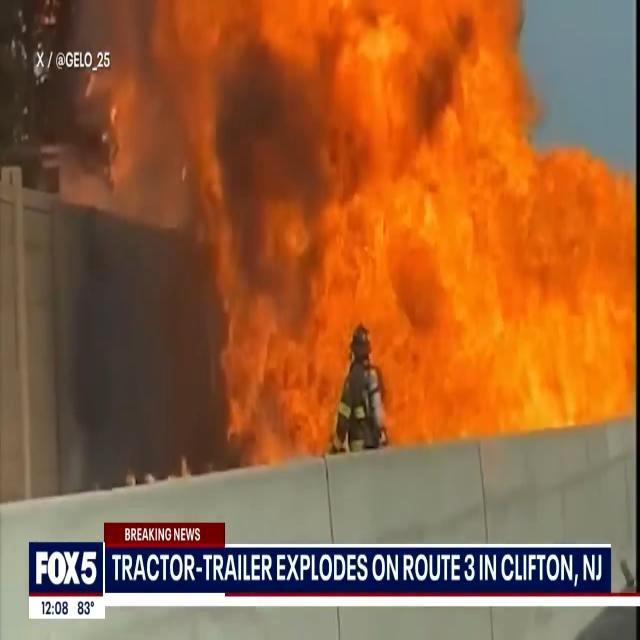fire: (194, 2, 638, 318), (217, 191, 327, 454), (390, 324, 638, 426)
